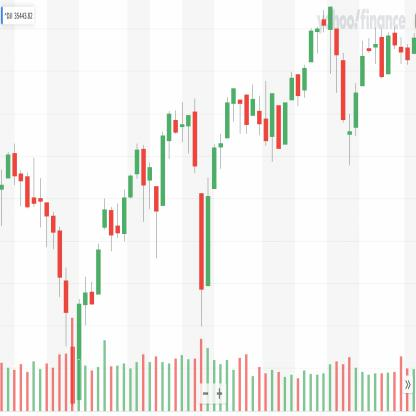Bearish Engulfing: (134, 137, 147, 227)
Bearish Kicker: (146, 158, 160, 263)
Bullish 3 White Soldiers: (121, 140, 140, 248)
Bullish Abandoned Baby: (340, 50, 360, 170)
